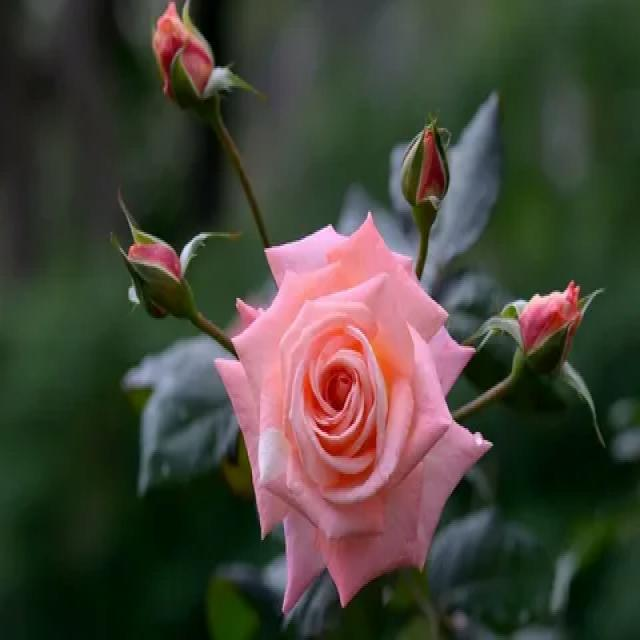rose: (205, 195, 492, 605)
